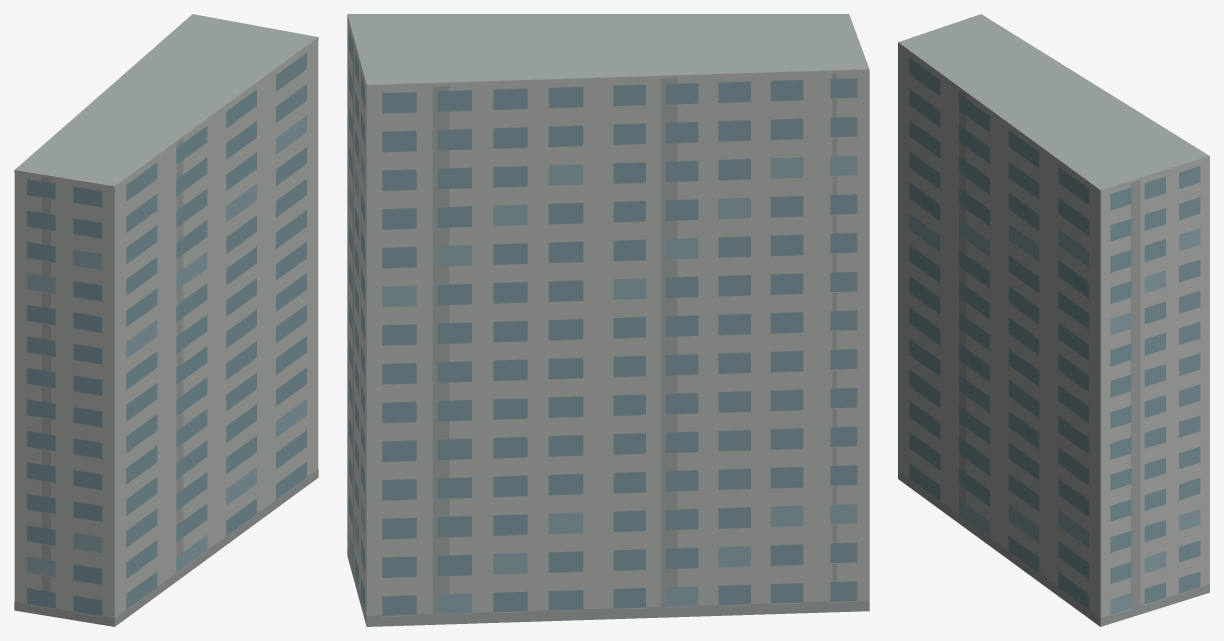
The model's file is residential-e2788acc-718e-4dfe-827b-0e394d43c82a.glb.
3 renders of one model, left to right at view 1: azimuth 30°, elevation 25°; view 2: azimuth 150°, elevation 25°; view 3: azimuth 270°, elevation 25°, orthographic. The views are drawn at different scales.
Parts seen in each view (by area): view 1: residential-e2788acc-718e-4dfe-827b-0e394d43c82a.tmp; view 2: residential-e2788acc-718e-4dfe-827b-0e394d43c82a.tmp; view 3: residential-e2788acc-718e-4dfe-827b-0e394d43c82a.tmp.
Part boxes in pixels (box(x1,y1,x2,y2)): residential-e2788acc-718e-4dfe-827b-0e394d43c82a.tmp: box(14, 14, 318, 626); residential-e2788acc-718e-4dfe-827b-0e394d43c82a.tmp: box(347, 14, 869, 626); residential-e2788acc-718e-4dfe-827b-0e394d43c82a.tmp: box(898, 14, 1209, 626).
Bounding box in the file's own units: 36.95 × 42.7 × 27.63.
